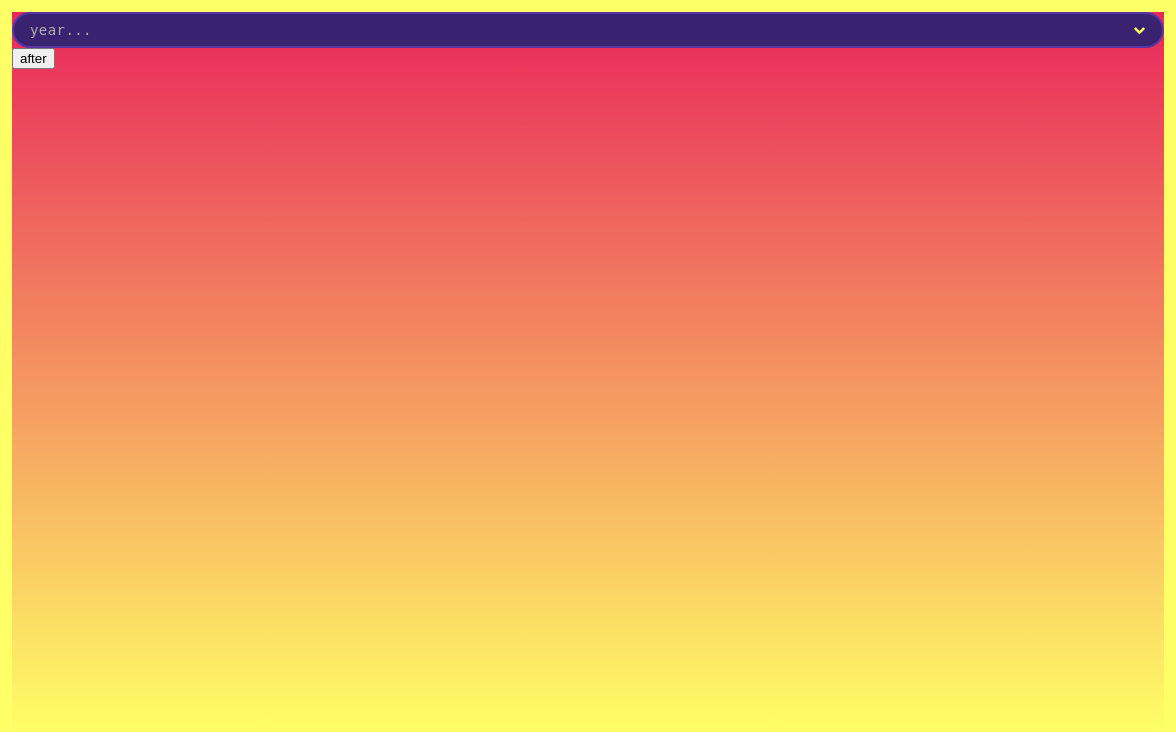
Test: MultiSelect › closes when focus tabs out of the panel
Click the button with aria-label "filter by year".
click(61, 30)  # box [12,12,1164,48]
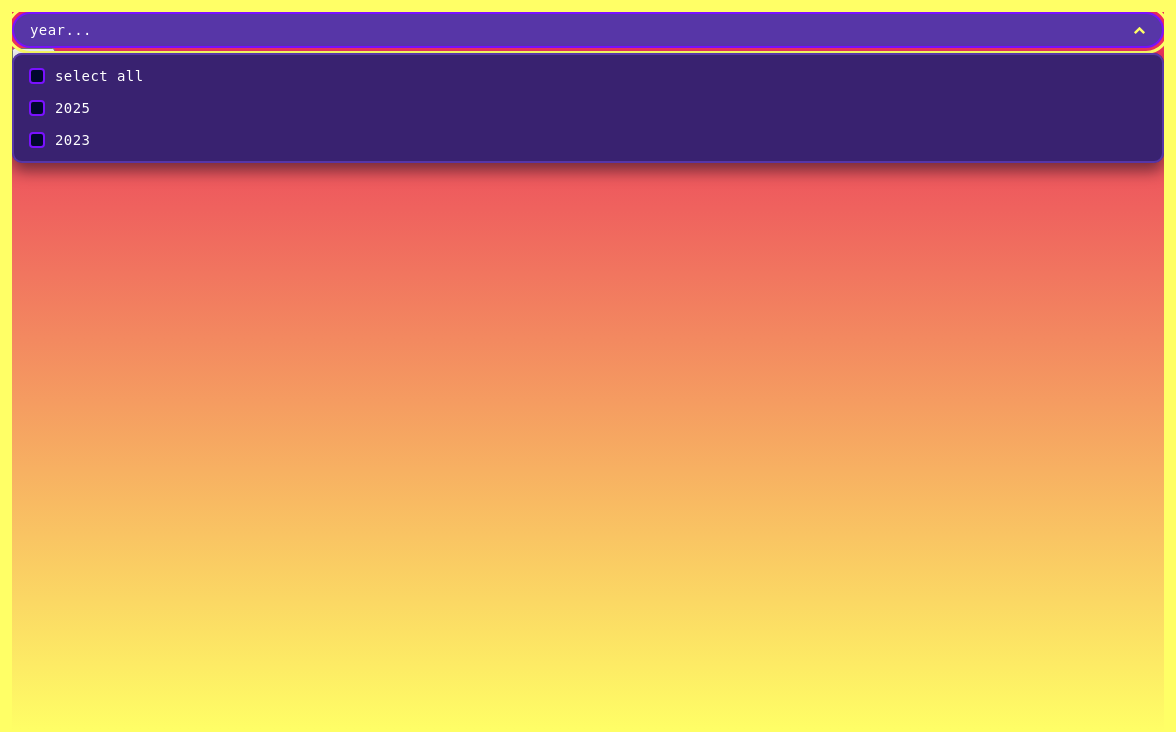
Press Tab
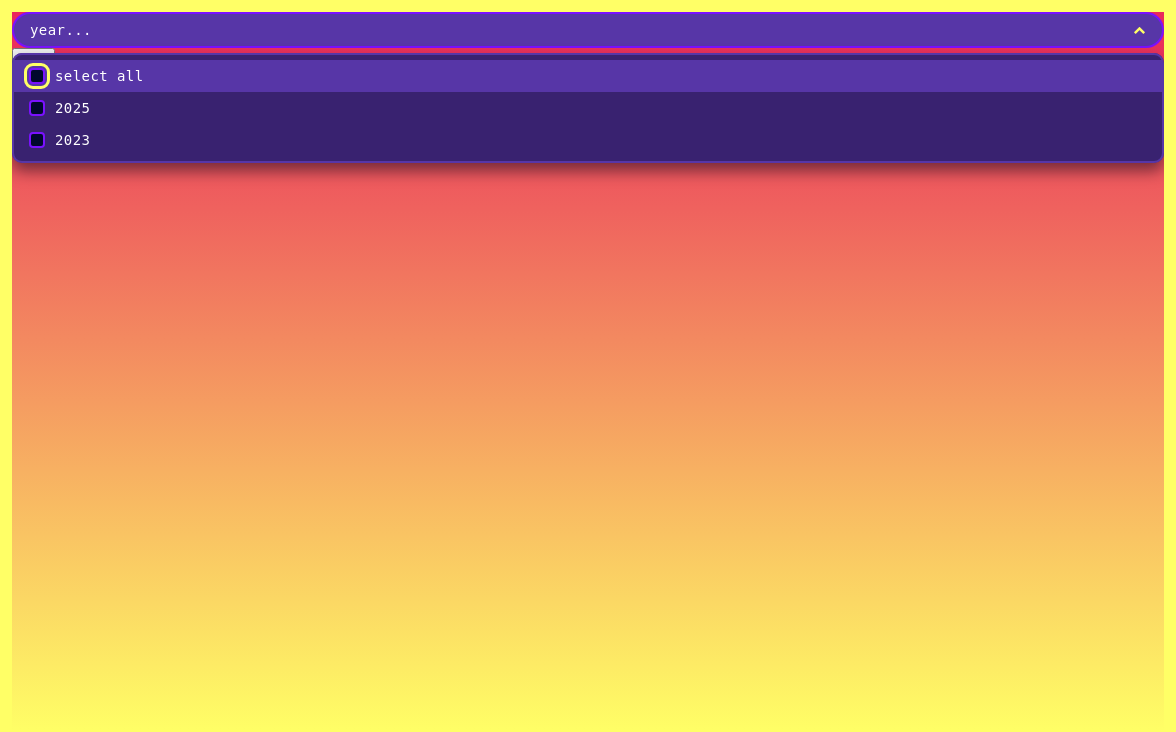
Press Tab
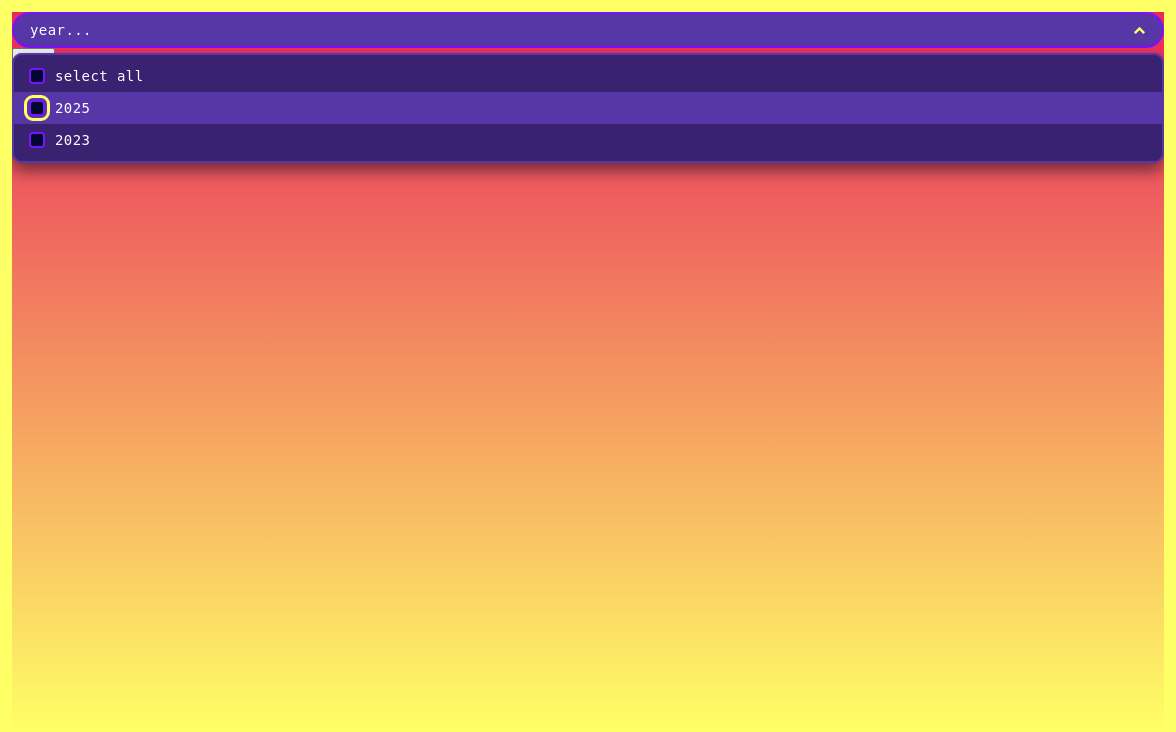
Press Tab
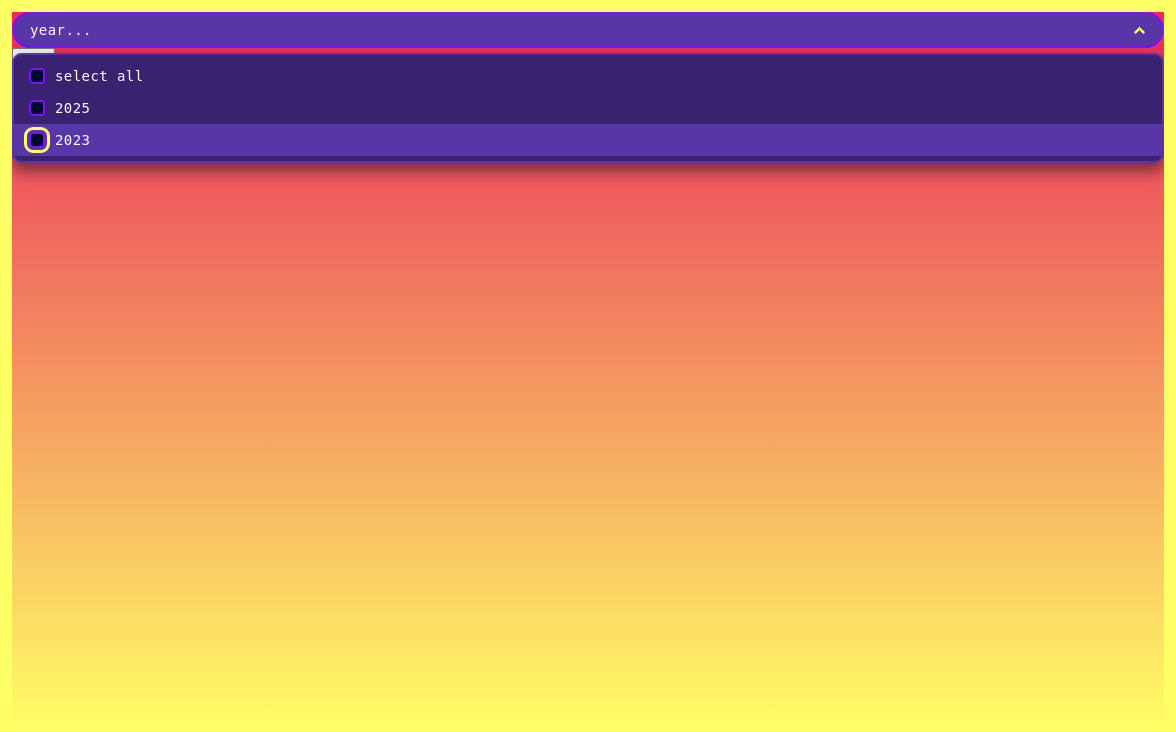
Press Tab
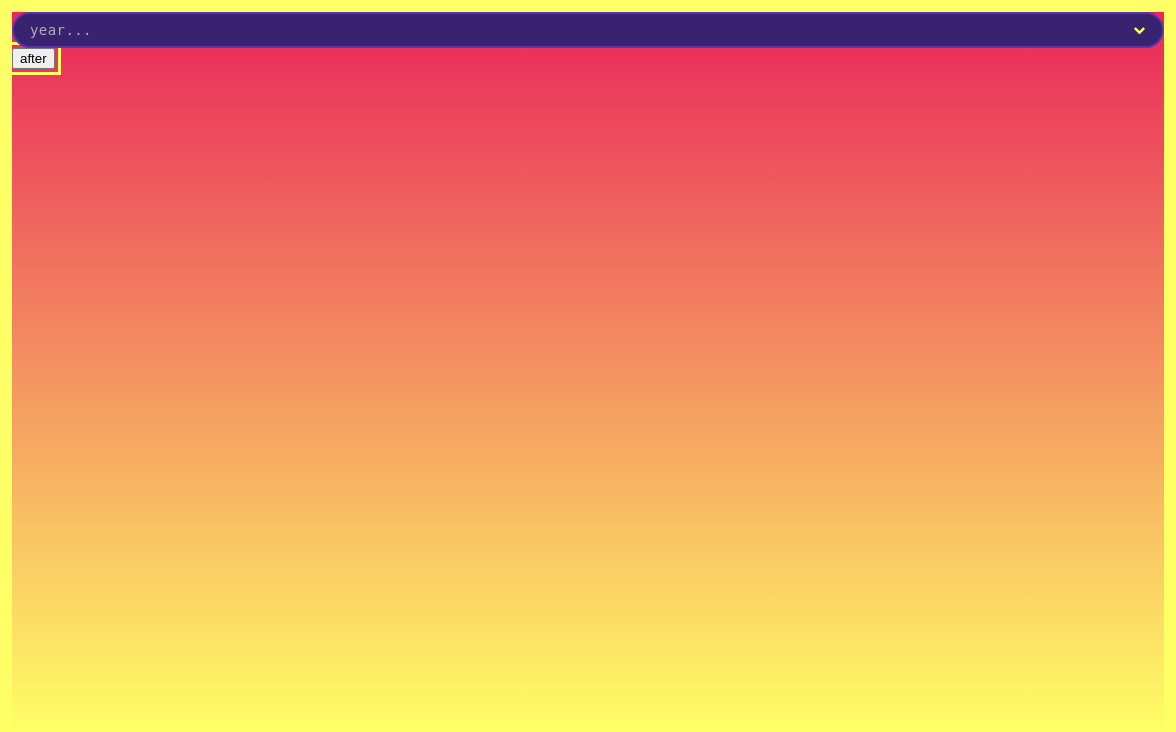
Expected: the button with aria-label "filter by year" is collapsed, [12,12,1164,48]
